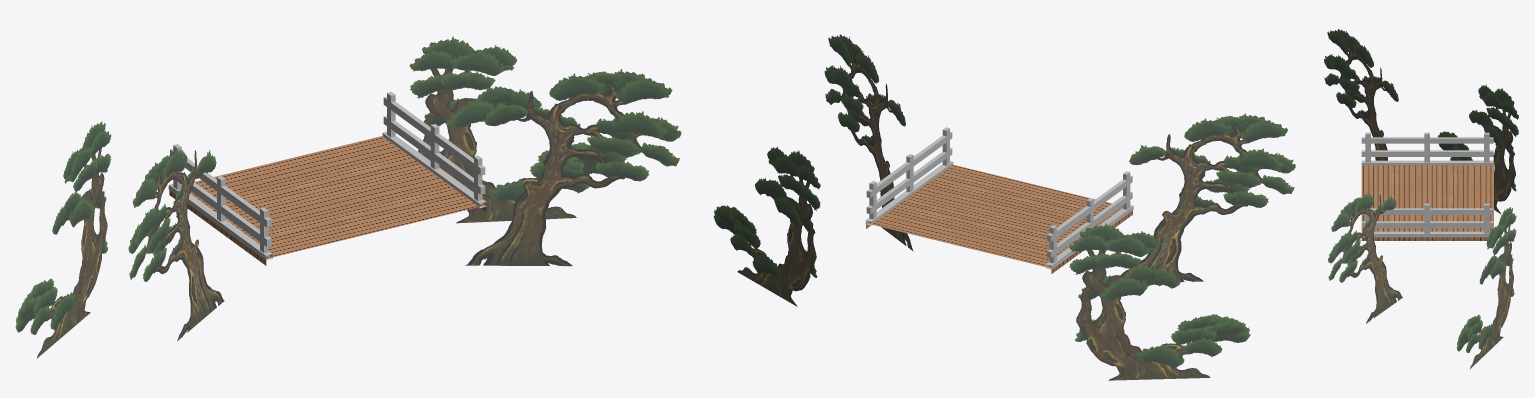
The model's file is matu_hashi.fbx.
The picture shows the model from 3 angles, left to right: view 1: azimuth 30°, elevation 25°; view 2: azimuth 150°, elevation 25°; view 3: azimuth 270°, elevation 25°; orthographic projection. The views are drawn at different scales.
Parts seen in each view (by area): view 1: cube2, grid1, grid2, grid3, grid, cube1, cube2_ncl1_1, cube12, cube11, cube7, cube6; view 2: cube2, grid3, grid, grid2, grid1, cube2_ncl1_1, cube1, cube6, cube7, cube11; view 3: cube2, grid1, grid, grid2, grid3, cube6, cube7, cube2_ncl1_1, cube11, cube1, cube12.
Part boxes in pixels (x1,y1,x2,y2): cube2: (169, 136, 485, 265); grid1: (465, 69, 681, 266); grid2: (409, 36, 600, 223); grid3: (15, 121, 111, 358); grid: (128, 149, 224, 341); cube1: (383, 96, 485, 175); cube2_ncl1_1: (383, 116, 485, 194); cube12: (168, 184, 272, 260); cube11: (382, 131, 486, 208); cube7: (175, 179, 271, 246); cube6: (170, 149, 271, 227); cube2: (866, 165, 1132, 273); grid3: (1069, 223, 1250, 380); grid: (1121, 113, 1295, 282); grid2: (713, 147, 820, 306); grid1: (824, 34, 913, 251); cube2_ncl1_1: (866, 148, 952, 214); cube1: (866, 131, 952, 197); cube6: (1047, 175, 1132, 241); cube7: (1047, 192, 1132, 258); cube11: (865, 161, 953, 225); cube2: (1361, 163, 1493, 240); grid1: (1328, 193, 1402, 323); grid: (1324, 29, 1398, 160); grid2: (1456, 207, 1516, 368); grid3: (1438, 85, 1518, 213); cube6: (1361, 137, 1493, 143); cube7: (1361, 150, 1493, 156); cube2_ncl1_1: (1361, 221, 1493, 227); cube11: (1361, 231, 1490, 237); cube1: (1361, 208, 1493, 214); cube12: (1361, 160, 1493, 165).
Bounding box in the file's own units: 56.39 × 21.59 × 22.44.
